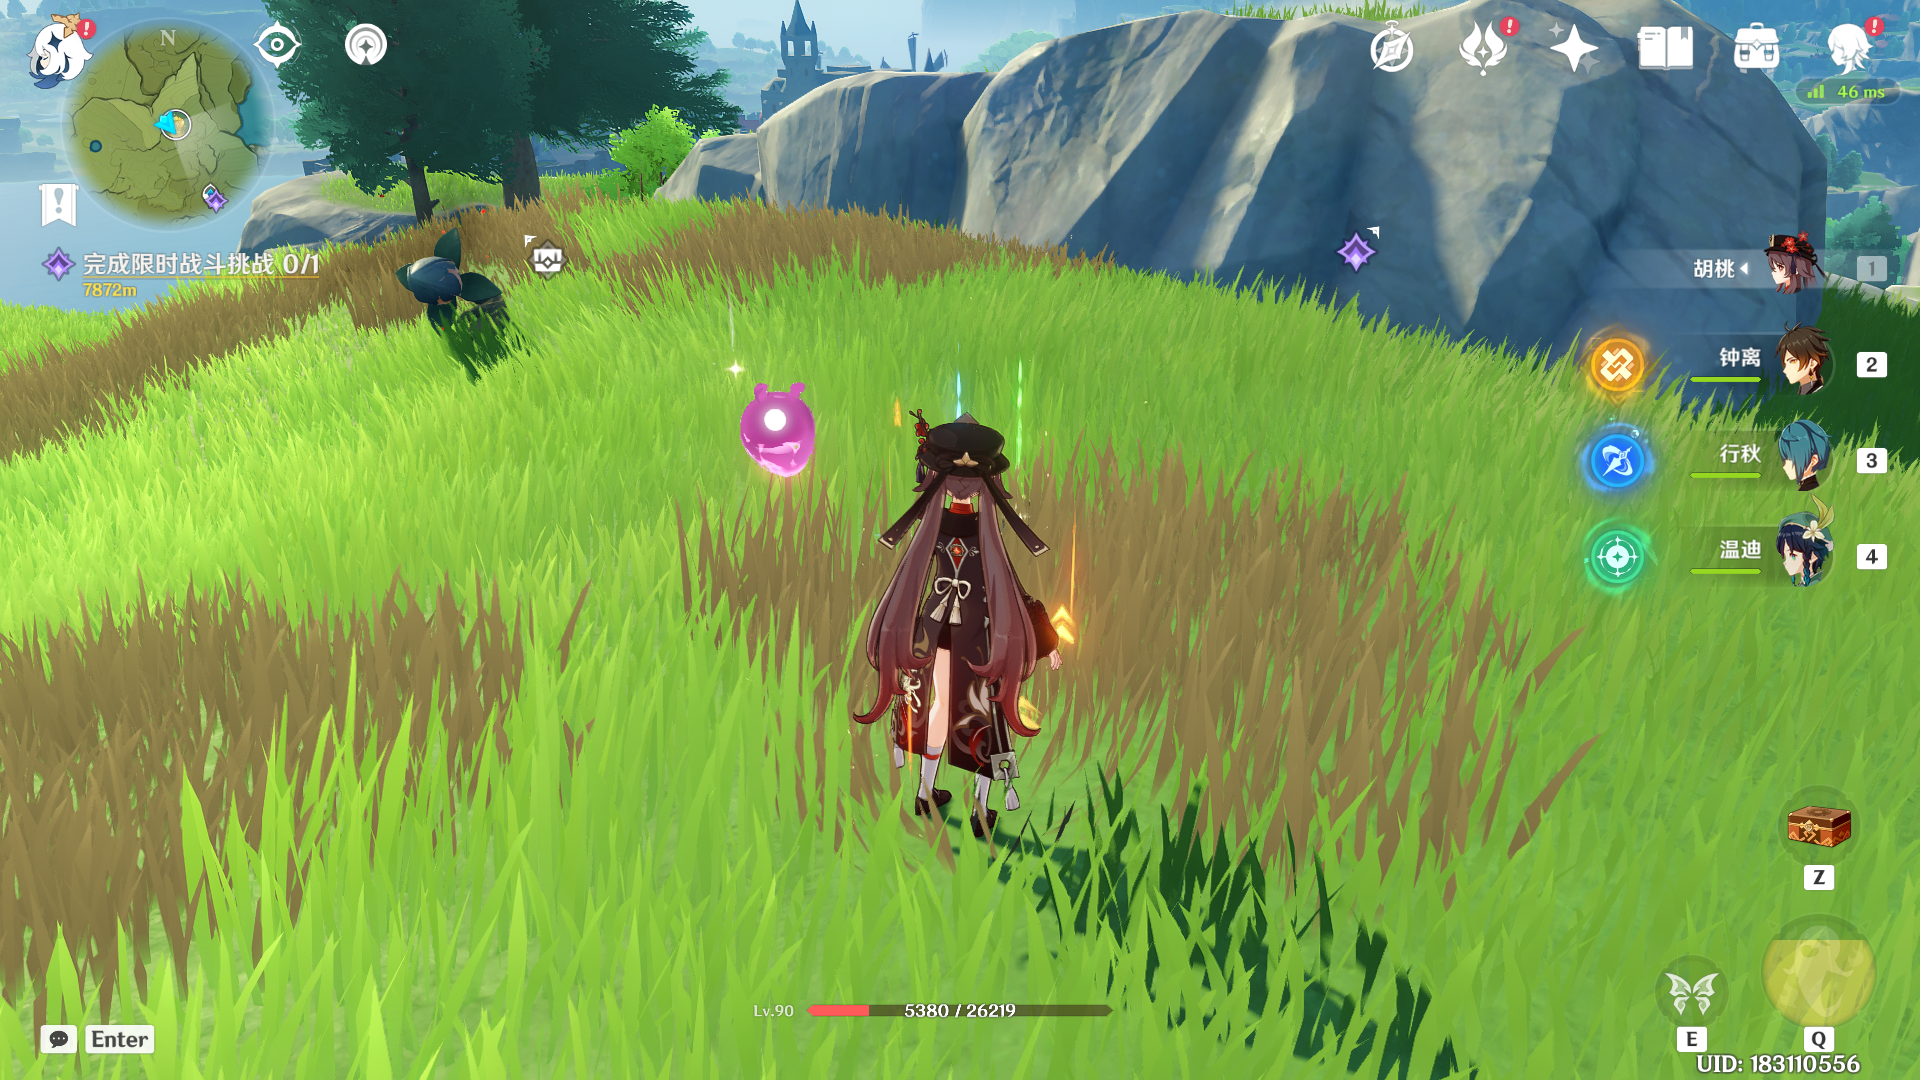character: (777, 348, 1127, 866)
